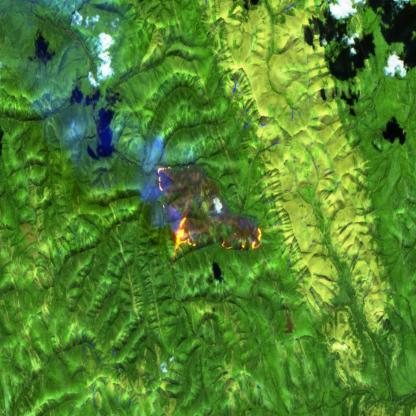fire: (154, 162, 264, 258)
